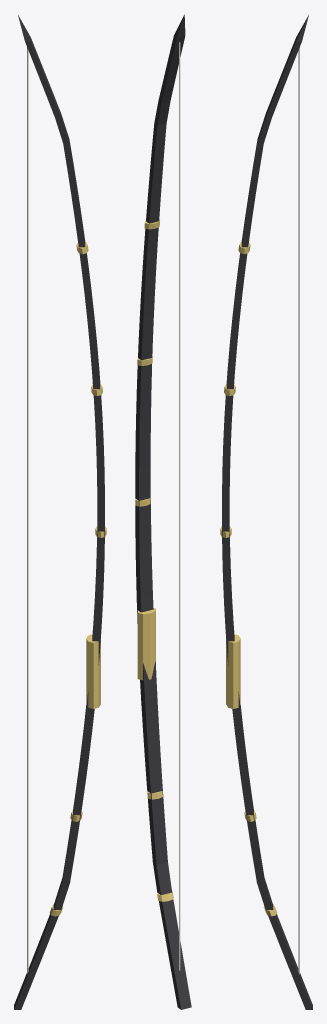
File: yumi_t4.glb
The picture shows the model from 3 angles, left to right: view 1: azimuth 90°, elevation 25°; view 2: azimuth 210°, elevation 25°; view 3: azimuth 270°, elevation 25°; orthographic projection.
Visible parts, largest first — view 1: yumi, tsuru, nigiri, to; view 2: yumi, tsuru, nigiri, to; view 3: yumi, tsuru, nigiri, to.
Part boxes in pixels (x1=…): yumi: x1=14, y1=15, x2=104, y2=1009; tsuru: x1=27, y1=47, x2=28, y2=974; nigiri: x1=86, y1=634, x2=100, y2=708; to: x1=49, y1=242, x2=106, y2=916; yumi: x1=135, y1=14, x2=191, y2=1009; tsuru: x1=179, y1=42, x2=180, y2=970; nigiri: x1=137, y1=608, x2=155, y2=680; to: x1=135, y1=219, x2=173, y2=901; yumi: x1=222, y1=15, x2=312, y2=1009; tsuru: x1=298, y1=47, x2=299, y2=974; nigiri: x1=226, y1=634, x2=240, y2=708; to: x1=220, y1=242, x2=277, y2=916.
Bounding box in the file's own units: 0.04 × 2.1 × 0.1776.
